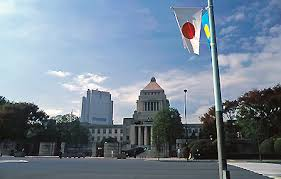Japanese Flag: (170, 6, 201, 56)
